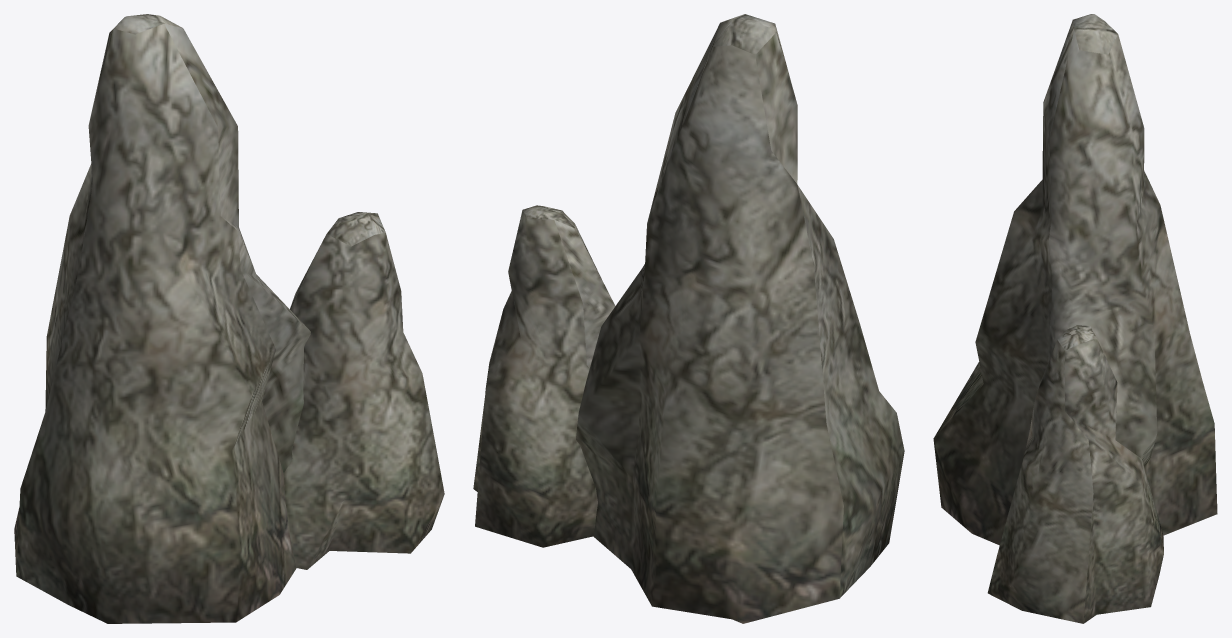
File: DN_lv3_hd_stone01.FBX
3 views of the same model, side by side, from view 1: azimuth 30°, elevation 25°; view 2: azimuth 150°, elevation 25°; view 3: azimuth 270°, elevation 25° (orthographic). The views are drawn at different scales.
Visible parts, largest first — view 1: DN_lv3_hd_stone01; view 2: DN_lv3_hd_stone01; view 3: DN_lv3_hd_stone01.
Boxes of the visible parts, box(x1,y1,x2,y2) form: DN_lv3_hd_stone01: box(14, 14, 444, 623); DN_lv3_hd_stone01: box(473, 14, 904, 623); DN_lv3_hd_stone01: box(933, 14, 1217, 623).
Size of the model in its own units: 1297 by 1717 by 914.
